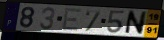3: (39, 6, 56, 30)
5: (106, 10, 126, 34)
7: (84, 8, 103, 32)
8: (20, 6, 36, 28)
E: (61, 8, 83, 32)
N: (123, 10, 148, 36)
